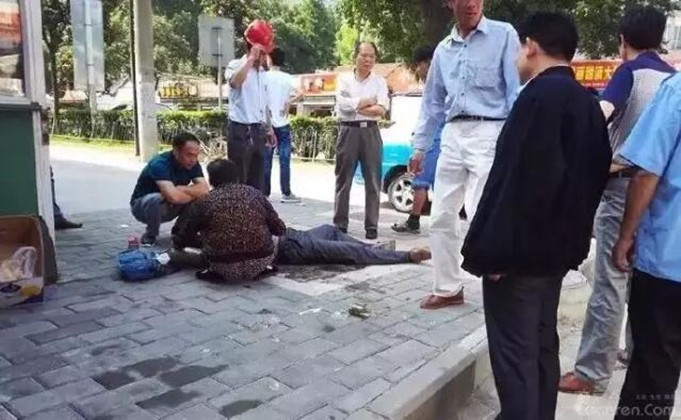fall: (262, 207, 433, 272)
